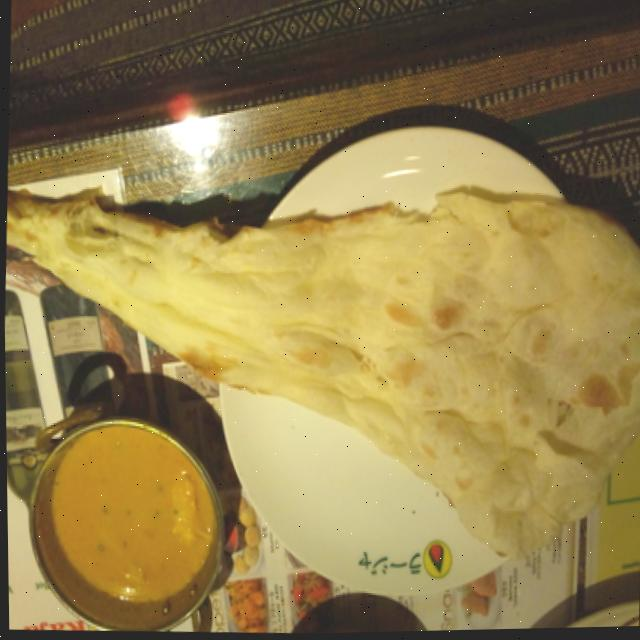牛肉菜式: (28, 416, 236, 636)
